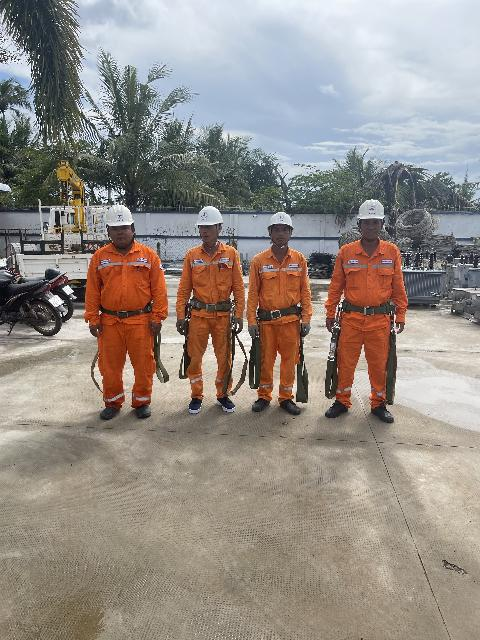gloves: (249, 323, 262, 344), (299, 323, 314, 334)
harness: (326, 297, 404, 321), (93, 302, 163, 322), (177, 295, 238, 316), (255, 306, 308, 320)
helmet: (89, 198, 142, 231), (354, 196, 390, 224), (193, 202, 228, 230), (269, 204, 294, 231)
shoes: (316, 396, 351, 423), (207, 391, 238, 420), (363, 408, 400, 429), (95, 392, 120, 423), (275, 399, 306, 422), (248, 389, 269, 419), (183, 395, 207, 420), (124, 401, 154, 420)
